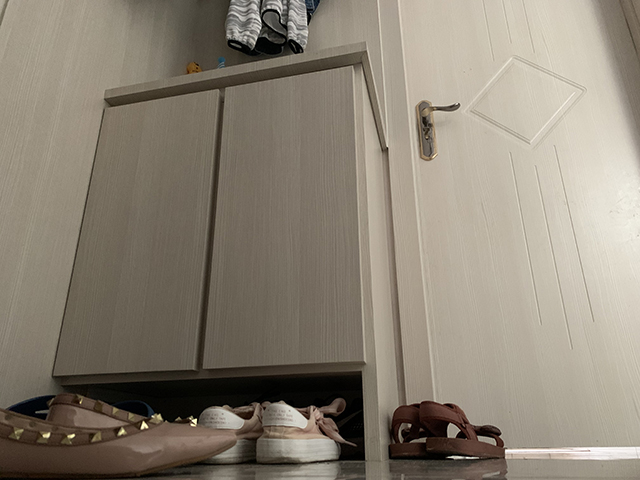cabinet: (52, 40, 398, 463)
